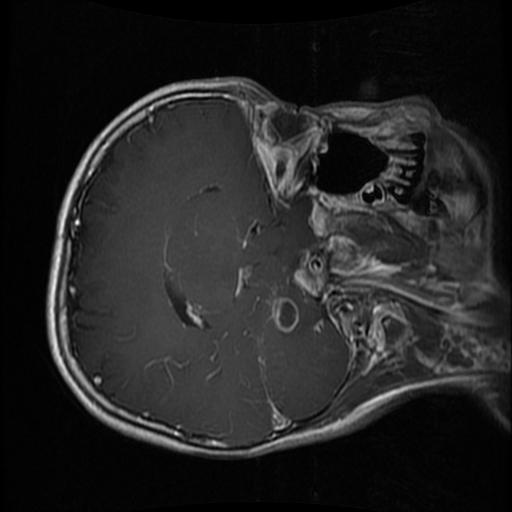glioma: (270, 297, 299, 334)
